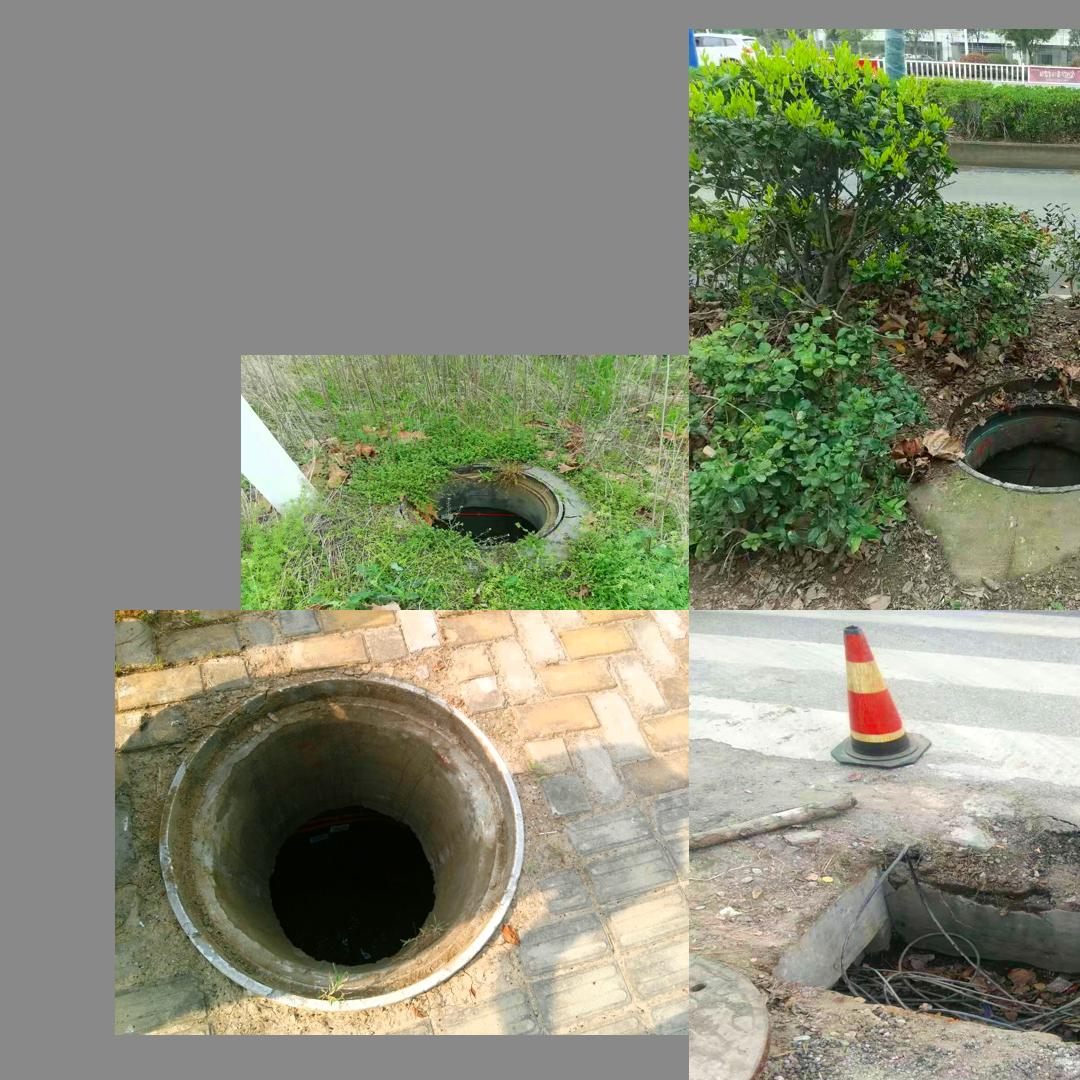lose: (160, 674, 524, 1009), (767, 851, 1080, 1047), (948, 373, 1080, 492), (396, 464, 563, 549)
